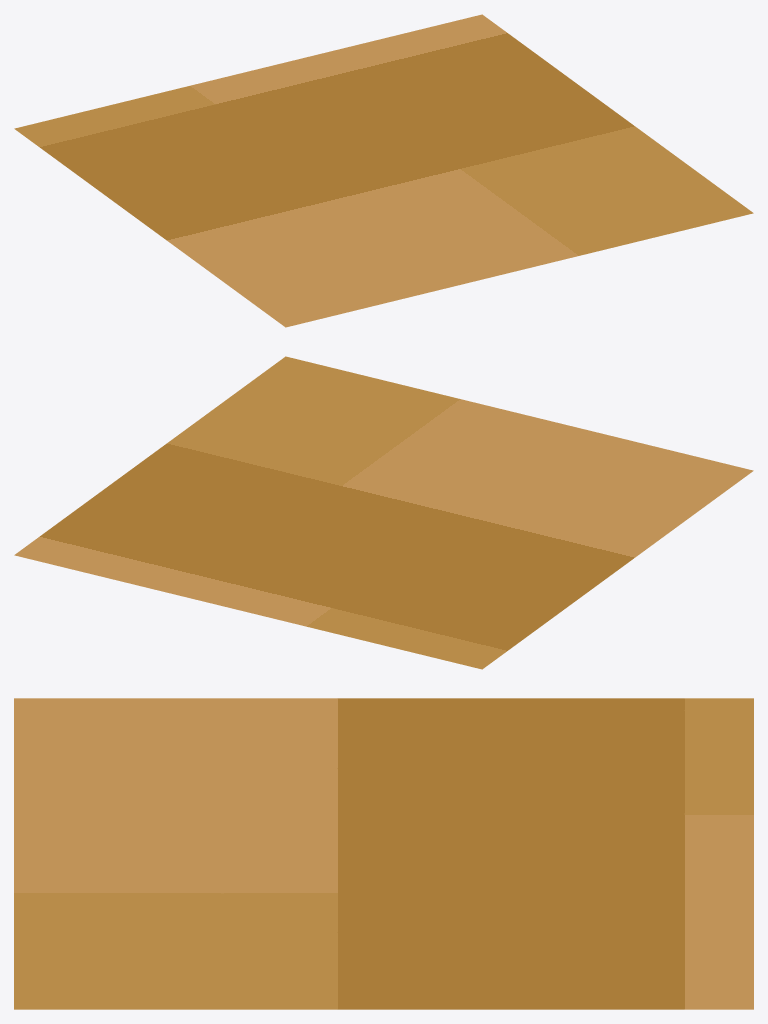
The picture shows the model from 3 angles, top to bottom: view 1: azimuth 30°, elevation 25°; view 2: azimuth 150°, elevation 25°; view 3: azimuth 270°, elevation 25°; orthographic projection. The views are drawn at different scales.
Size of the model in its own units: 0.9951 by 0 by 1.
1 material, 1 textured.
